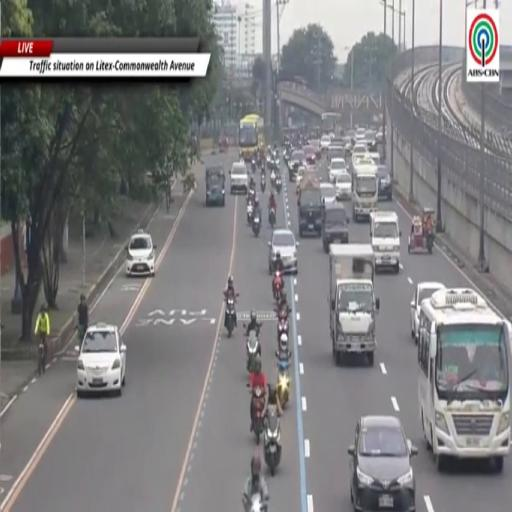bus: (418, 288, 510, 472), (239, 115, 264, 161), (321, 112, 341, 138)
car: (348, 415, 417, 511), (75, 324, 126, 397), (411, 282, 445, 344), (125, 230, 156, 276), (268, 229, 298, 275), (322, 204, 349, 253), (206, 167, 225, 206), (230, 162, 248, 195), (378, 165, 392, 201), (328, 157, 347, 183), (335, 171, 351, 200), (352, 142, 367, 165), (321, 183, 336, 204), (303, 146, 316, 165), (369, 151, 381, 166), (321, 135, 330, 150), (355, 128, 366, 140), (376, 128, 383, 143)
motorcycle: (264, 406, 281, 476), (252, 387, 265, 444), (277, 351, 290, 408), (246, 330, 259, 373), (225, 296, 236, 338), (245, 493, 267, 511), (272, 271, 284, 301), (277, 314, 288, 341), (252, 212, 260, 236), (274, 175, 282, 194), (247, 201, 253, 225), (269, 208, 275, 229), (248, 185, 255, 200), (270, 170, 276, 187), (261, 174, 266, 193), (252, 159, 256, 173)
tricycle: (408, 208, 434, 253)
truck: (329, 244, 380, 365), (352, 157, 378, 221), (298, 175, 322, 236)
